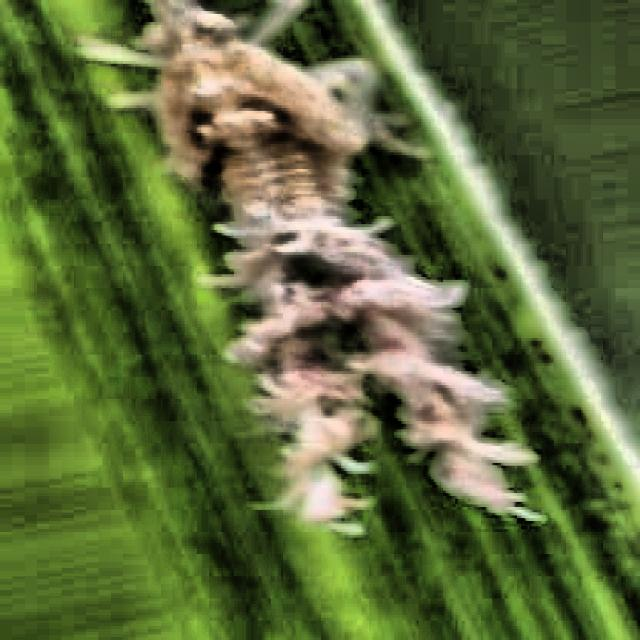Pyrilla-perpusilla: (76, 0, 558, 551)
